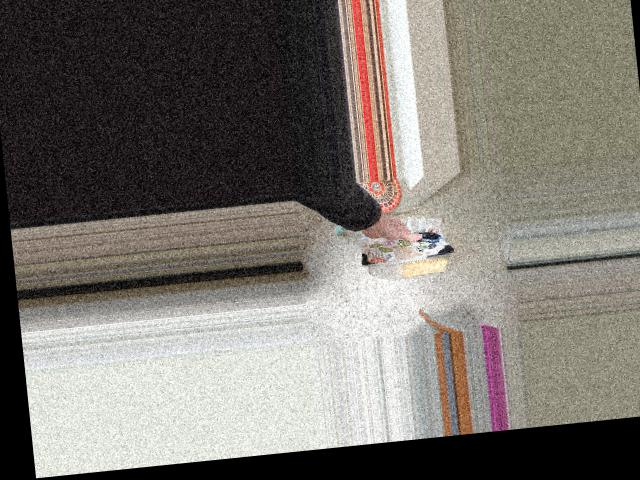cheese: (346, 206, 462, 307)
